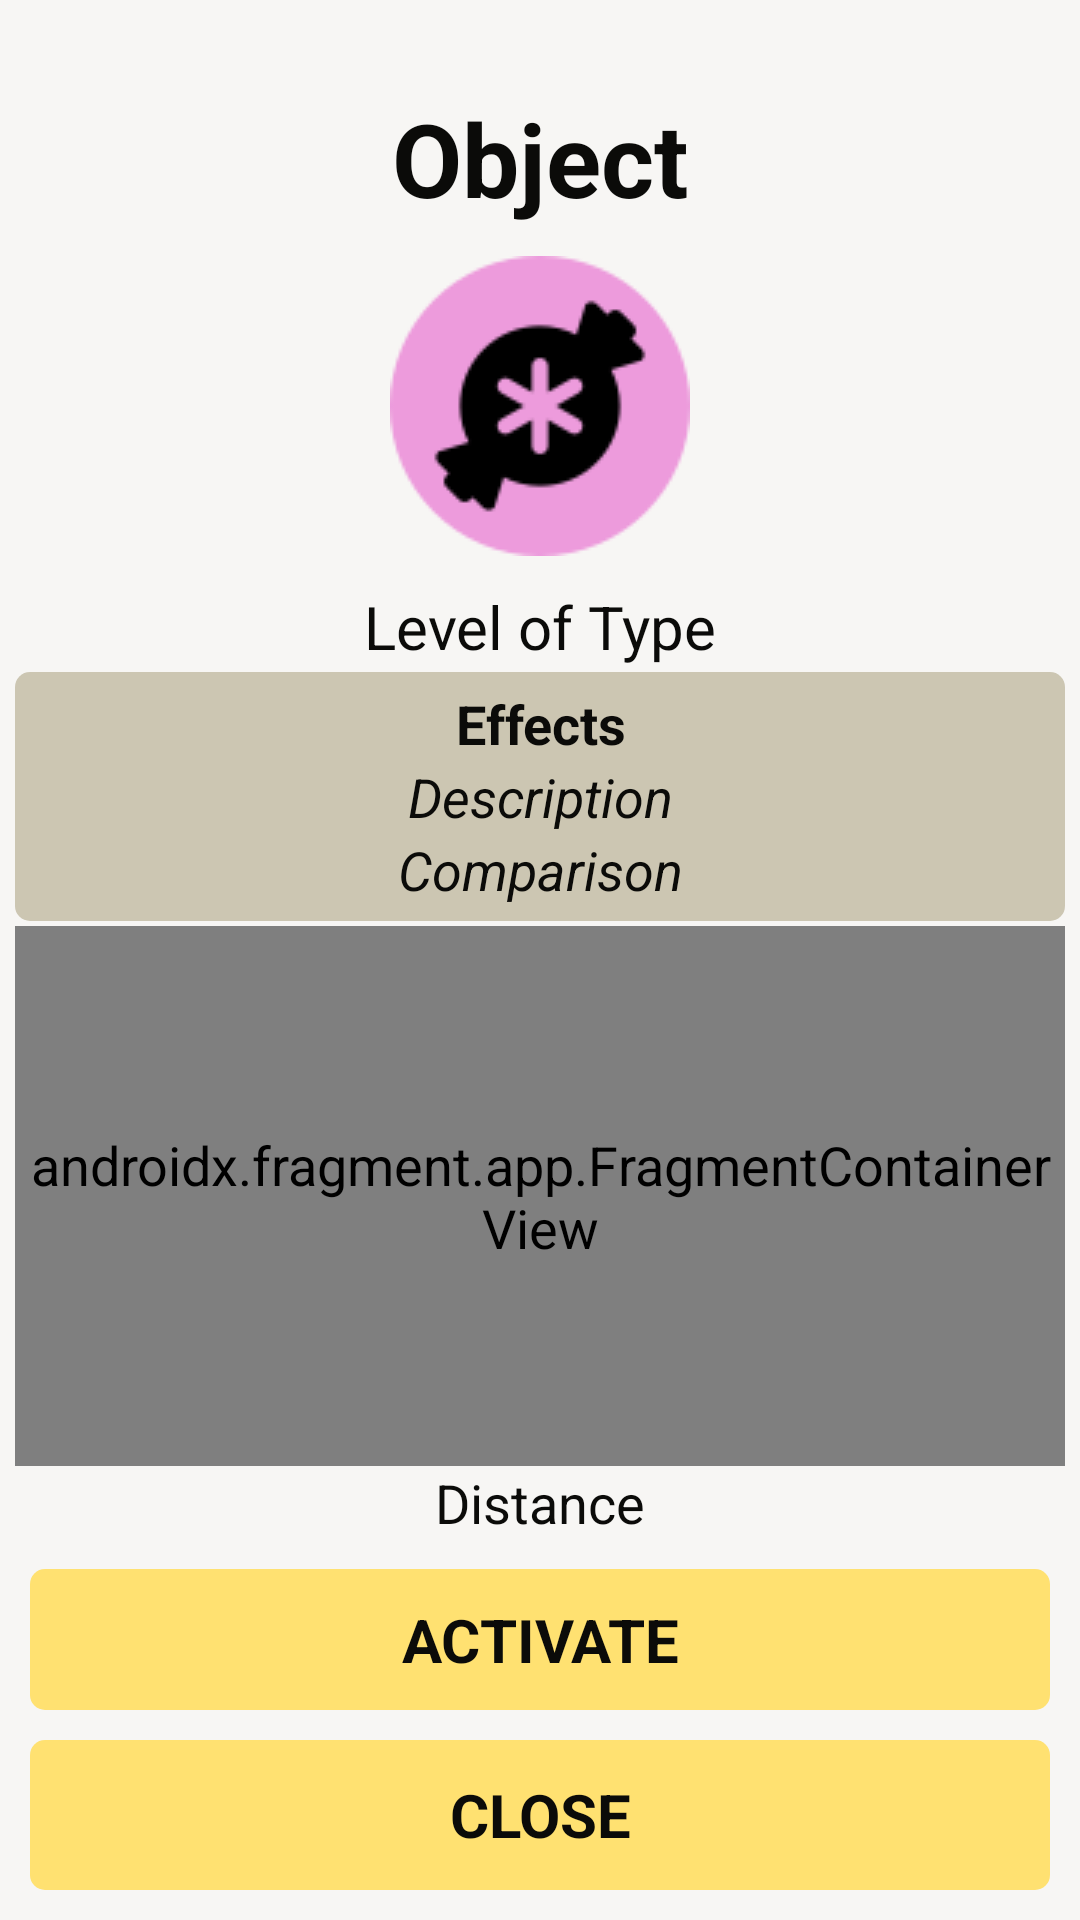

Icon click points for this 1080 × 1920 phone screenshot, format (x=x, y=y):
candy: (x=540, y=406)
